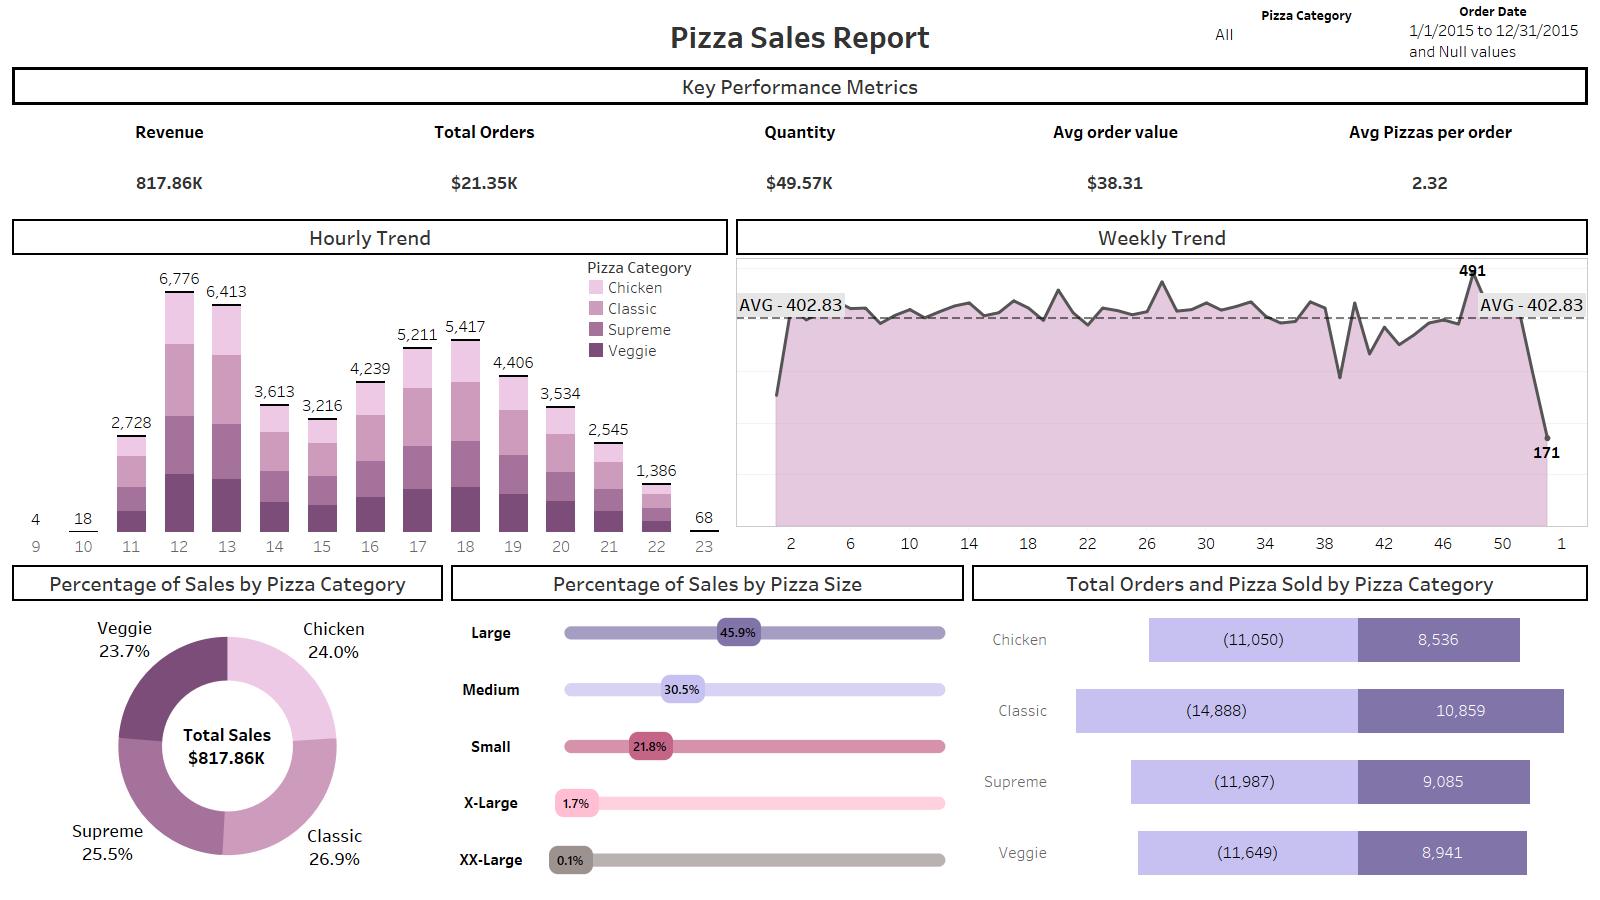

The dashboard page shown, as its layout file describes it:
{"tool":"tableau","page":{"name":"Pizza Sales Report","canvas":[1600,900],"ordinal":0},"visuals":[{"type":"filter","title":"Hourly Trend","param":"[federated.1svbvsm0zdrmvo1f5bwy206paf8v].[none:order_date:qk]","box":[1406,1,174,63]},{"type":"filter","title":"Hourly Trend","param":"[federated.1svbvsm0zdrmvo1f5bwy206paf8v].[none:pizza_category:nk]","box":[1213,5,187,61]},{"type":"title","box":[8,8,1584,55]},{"type":"worksheet","title":"KPI","mark":"Automatic","box":[8,63,1584,152]},{"type":"worksheet","title":"Hourly Trend","mark":"Bar","rows":["quantity","quantity"],"cols":["order_time"],"box":[8,215,724,346.3]},{"type":"worksheet","title":"Weekly Trend","mark":"Area","rows":["Calculation_960392681709826049","Calculation_960392681709826049"],"cols":["order_date"],"box":[732,215,860,346.3]},{"type":"legend","title":"Hourly Trend","param":"[federated.1svbvsm0zdrmvo1f5bwy206paf8v].[none:pizza_category:nk]","box":[586,255,144,111]},{"type":"worksheet","title":"%of pizza sales by category","mark":"Pie","rows":["Calculation_960392681723723780","Calculation_960392681723744262"],"box":[8,561.3,439,330.7]},{"type":"worksheet","title":"Percentage of Sales by Pizza Size","mark":"Line","rows":["pizza_size"],"box":[447,561.3,521,330.7]},{"type":"worksheet","title":"Total Orders and Pizza Sold by Pizza Category","mark":"Automatic","rows":["pizza_category"],"box":[968,561.3,624,330.7]}]}

Visuals, with their boxes in screenshot pixels (x1, y1, x2, y2), scaled from the page's 1600x900 canvas onto the 1600x900 screenshot:
"Hourly Trend" filter: [x1=1406, y1=1, x2=1580, y2=64]
"Hourly Trend" filter: [x1=1213, y1=5, x2=1400, y2=66]
title: [x1=8, y1=8, x2=1592, y2=63]
"KPI" worksheet: [x1=8, y1=63, x2=1592, y2=215]
"Hourly Trend" worksheet (Bar marks): [x1=8, y1=215, x2=732, y2=561]
"Weekly Trend" worksheet (Area marks): [x1=732, y1=215, x2=1592, y2=561]
"Hourly Trend" legend: [x1=586, y1=255, x2=730, y2=366]
"%of pizza sales by category" worksheet (Pie marks): [x1=8, y1=561, x2=447, y2=892]
"Percentage of Sales by Pizza Size" worksheet (Line marks): [x1=447, y1=561, x2=968, y2=892]
"Total Orders and Pizza Sold by Pizza Category" worksheet: [x1=968, y1=561, x2=1592, y2=892]
